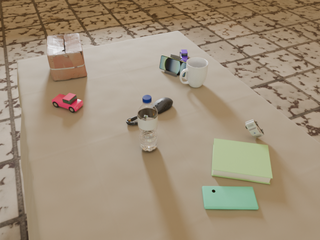book: (212, 139, 272, 184)
bottle: (138, 95, 158, 152)
box: (47, 33, 87, 81)
cup: (180, 58, 208, 87)
mouse: (153, 98, 173, 114)
phone: (202, 186, 258, 209), (160, 55, 187, 77)
toy_car: (52, 93, 83, 112), (245, 120, 264, 138), (180, 50, 188, 62)
